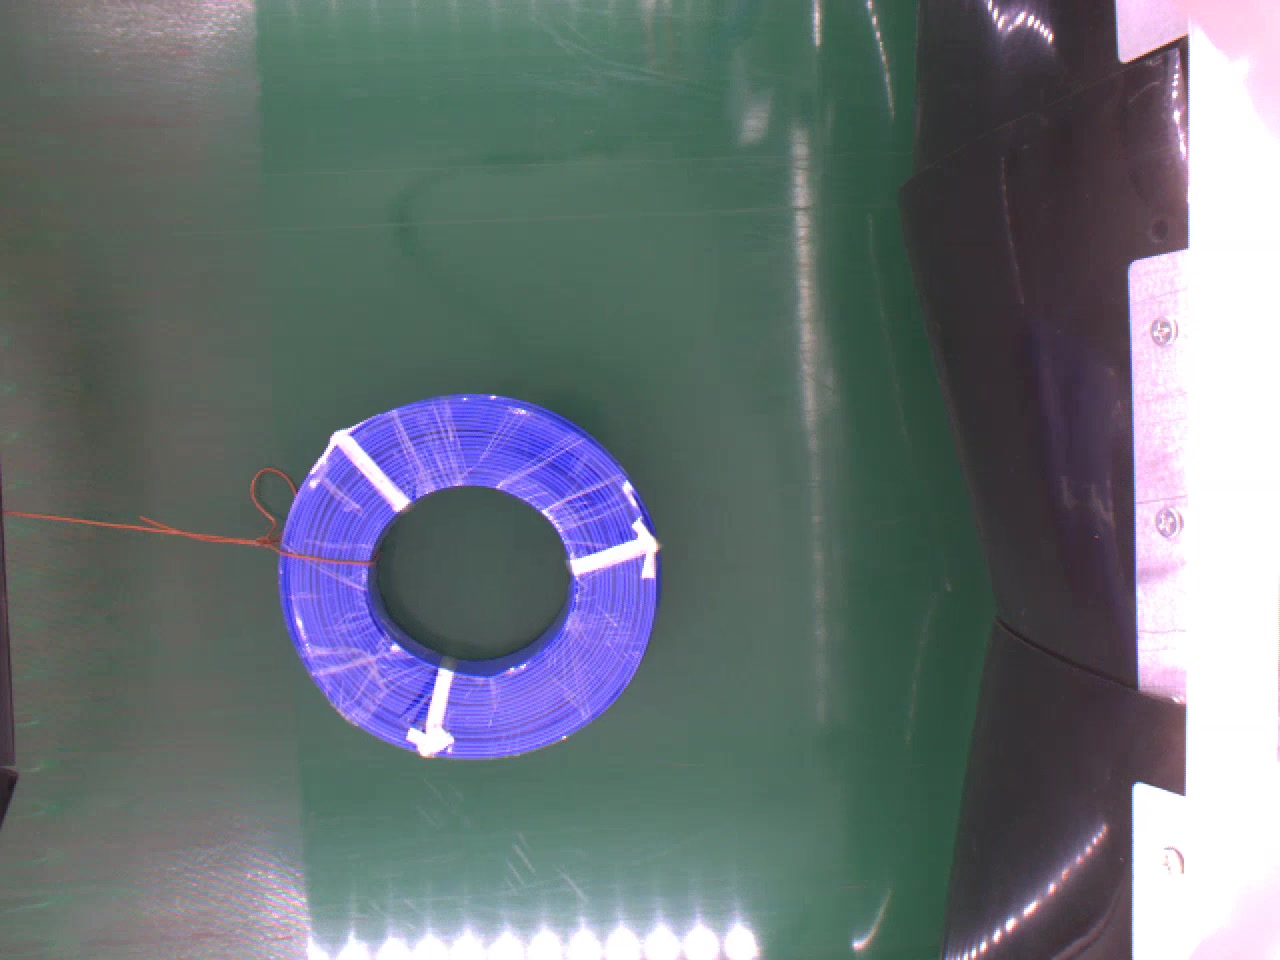blue: (278, 388, 657, 762)
